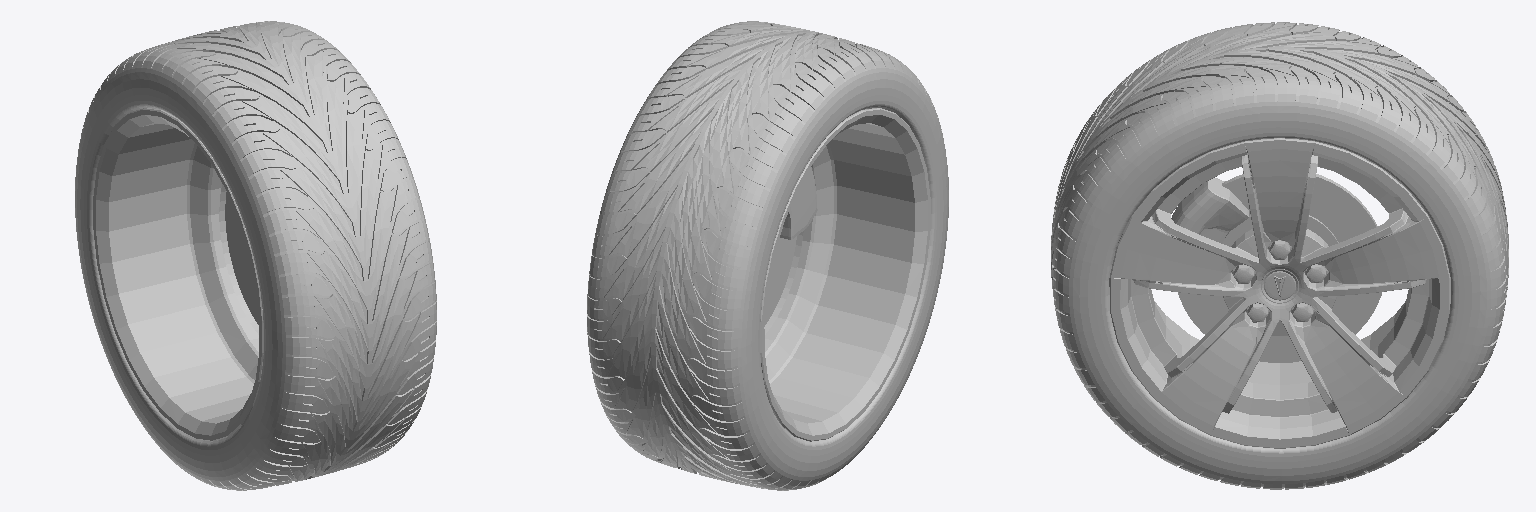
The model's file is modelo_llantadi.obj.
3 views of the same model, side by side, from view 1: azimuth 30°, elevation 25°; view 2: azimuth 150°, elevation 25°; view 3: azimuth 270°, elevation 25° (orthographic).
Visible parts, largest first — view 1: llantadi3, llantadi1, llantadi2; view 2: llantadi3, llantadi1, llantadi2, pasted__K1_pasted__tire_f_L_pasted__Group001_group_pasted__HDM_0; view 3: llantadi3, llantadi1, llantadi2, pasted__K1_pasted__tire_f_L_pasted__Group001_group_pasted__HDM_0.
Boxes of the visible parts, x1=… form: llantadi3: x1=75, y1=21, x2=436, y2=490; llantadi1: x1=93, y1=108, x2=263, y2=441; llantadi2: x1=219, y1=184, x2=258, y2=334; llantadi3: x1=587, y1=21, x2=948, y2=490; llantadi1: x1=760, y1=108, x2=930, y2=441; llantadi2: x1=764, y1=231, x2=803, y2=334; pasted__K1_pasted__tire_f_L_pasted__Group001_group_pasted__HDM_0: x1=780, y1=167, x2=817, y2=239; llantadi3: x1=1051, y1=22, x2=1508, y2=489; llantadi1: x1=1109, y1=138, x2=1450, y2=448; llantadi2: x1=1178, y1=174, x2=1381, y2=362; pasted__K1_pasted__tire_f_L_pasted__Group001_group_pasted__HDM_0: x1=1171, y1=178, x2=1327, y2=322.
Bounding box in the file's own units: 1.12 × 2.79 × 2.79.